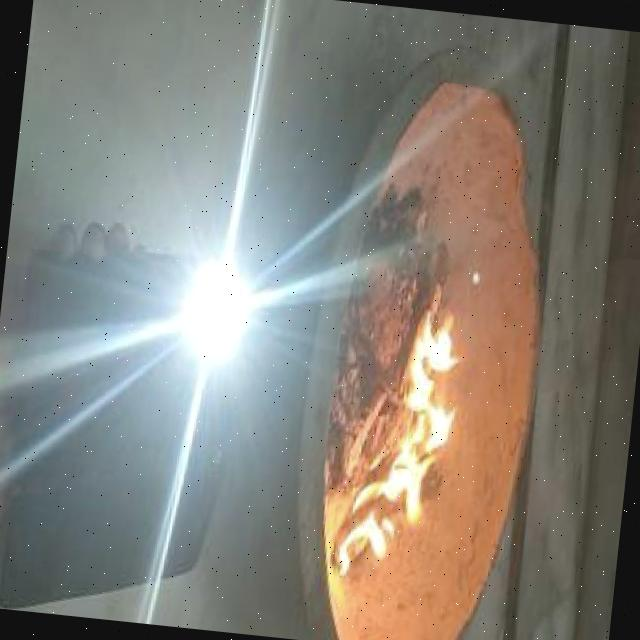fire: (323, 288, 469, 604)
